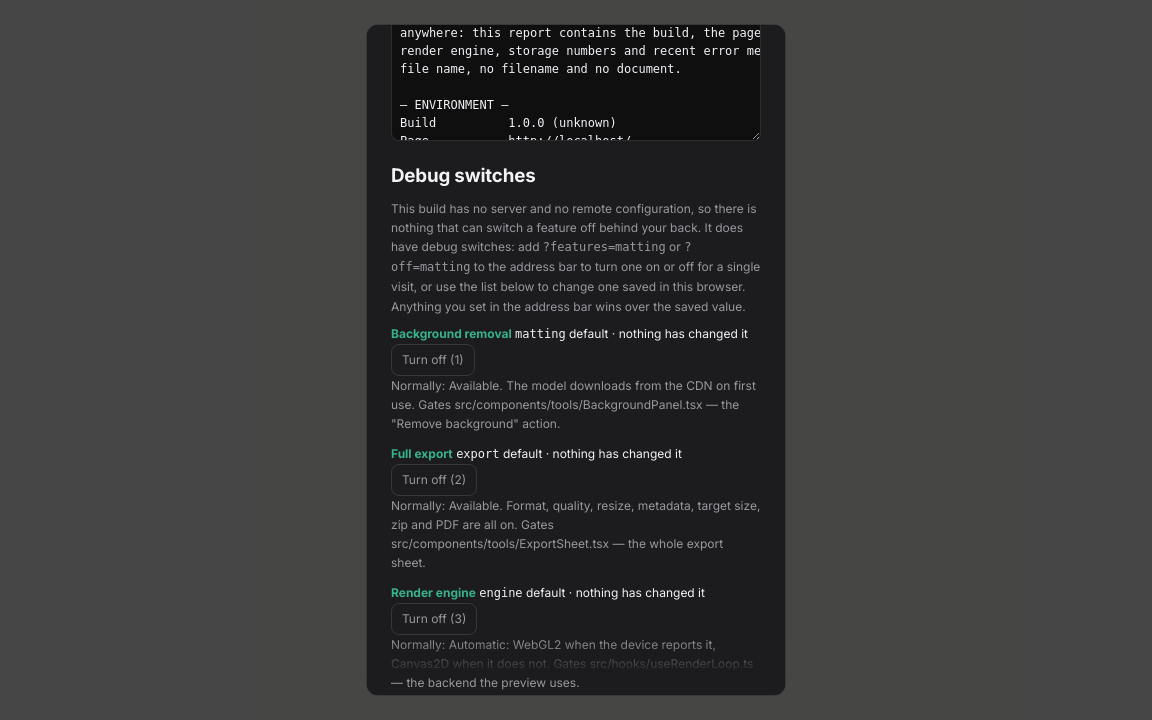
Test: the debug switches surface › turns a flag off from here, which is the action a user takes when one misbehaves
(page scrolled)
Click the button "Turn off (1)" at point(433, 360), box left=391, top=344, right=475, bottom=376
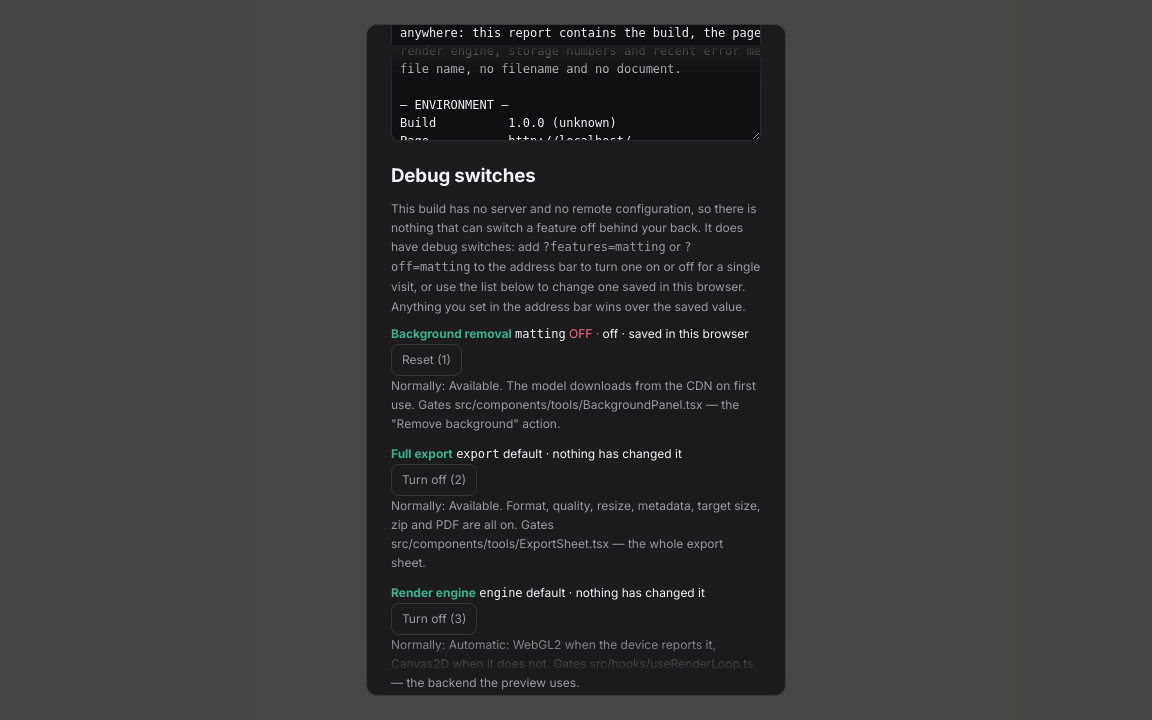
Expected: the list item that starts with "Background removal" shows "OFF", left=603, top=326, right=618, bottom=341
Expected: the list item that starts with "Background removal" shows "saved in this browser", left=628, top=326, right=749, bottom=341
